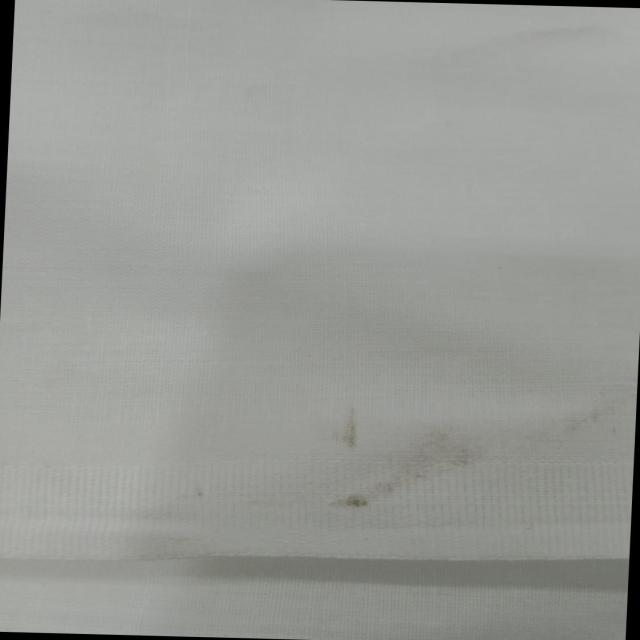stain: (326, 389, 491, 529), (554, 398, 636, 448)
